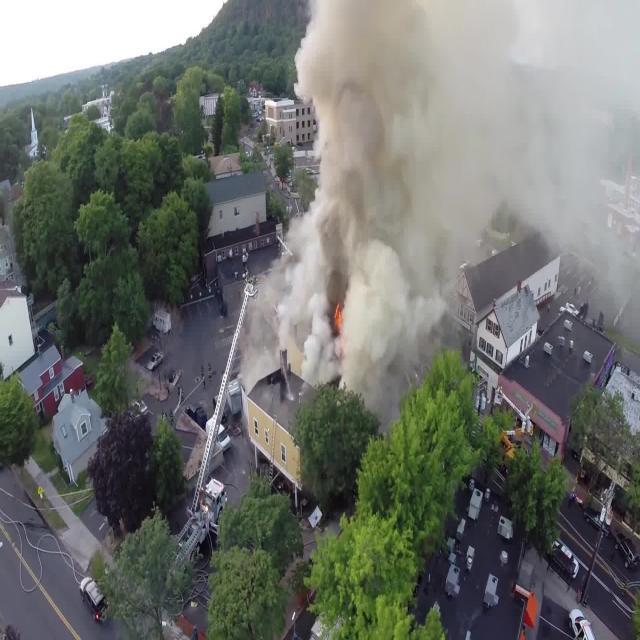Smoke: (258, 1, 640, 450)
